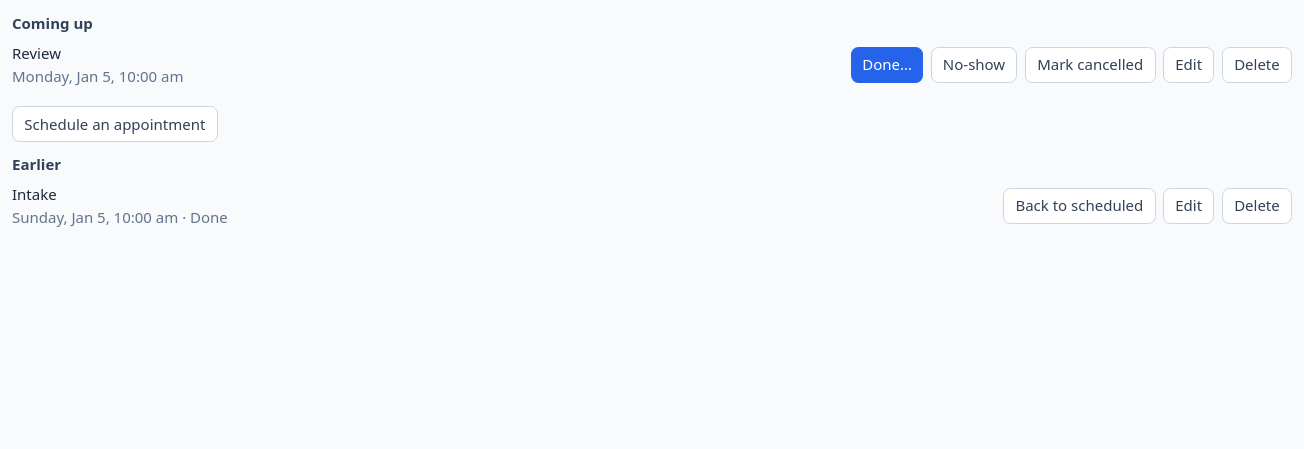
Test: profile appointments › have the same actions, and the Done form says a future one has not happened yet (audit S-19, Q4)
Expected: the button with aria-label "Mark cancelled (Review)" is shown, top-left (1025, 46), bottom-right (1156, 82)
Expected: the button with aria-label "Back to scheduled (Intake)" is shown, top-left (1003, 188), bottom-right (1156, 224)
Click the button with aria-label "Done… (Review)" at (887, 64), box top-left (851, 46), bottom-right (923, 82)
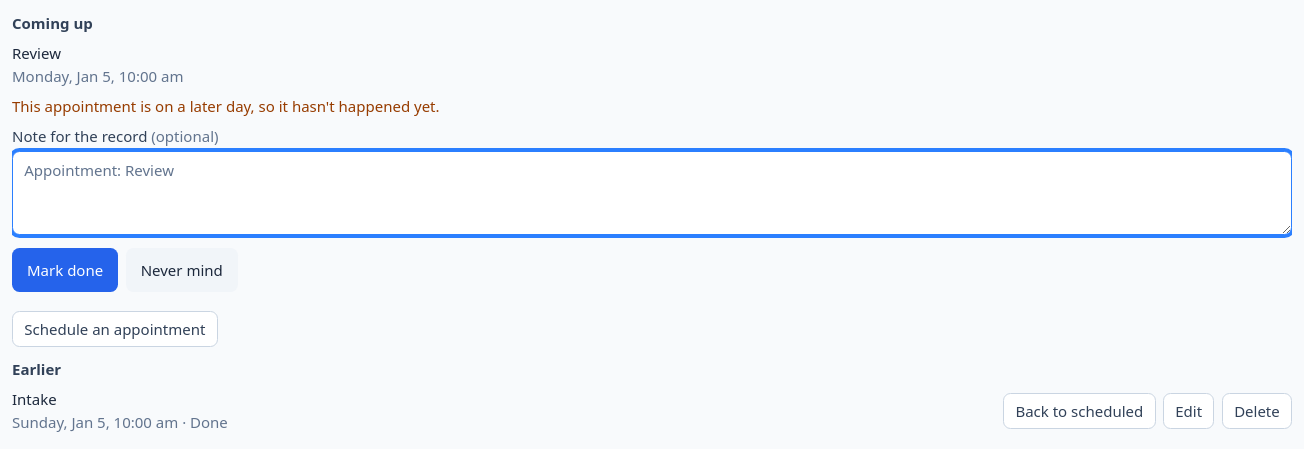
Result: the text "is on a later day, so it hasn't happened yet" is shown at top-left (136, 96), bottom-right (440, 116)
Result: the button "Mark done" is shown at top-left (12, 248), bottom-right (118, 292)
Result: the button "Never mind" is shown at top-left (126, 248), bottom-right (238, 292)
